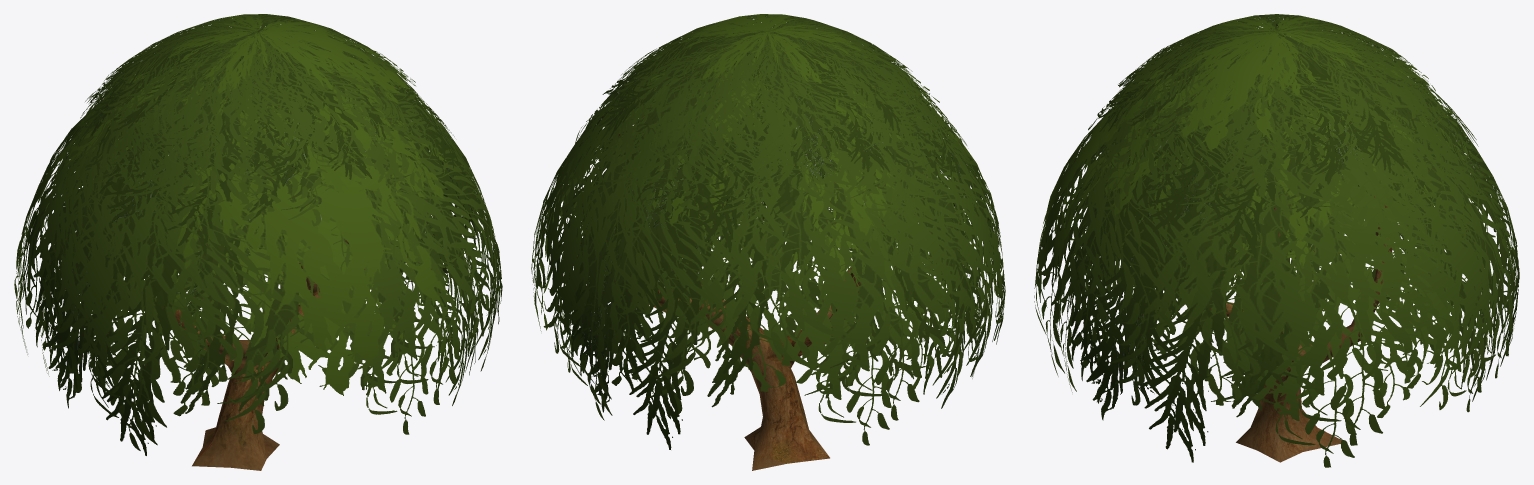
File: Tree_4.fbx
3 renders of one model, left to right at view 1: azimuth 30°, elevation 25°; view 2: azimuth 150°, elevation 25°; view 3: azimuth 270°, elevation 25°, orthographic. The views are drawn at different scales.
Visible parts, largest first — view 1: polySurface84; view 2: polySurface84; view 3: polySurface84.
Part boxes in pixels (box(x1,y1,x2,y2)): polySurface84: box(14, 14, 502, 470); polySurface84: box(531, 14, 1005, 470); polySurface84: box(1034, 14, 1519, 467).
Bounding box in the file's own units: 505 × 481 × 505.
